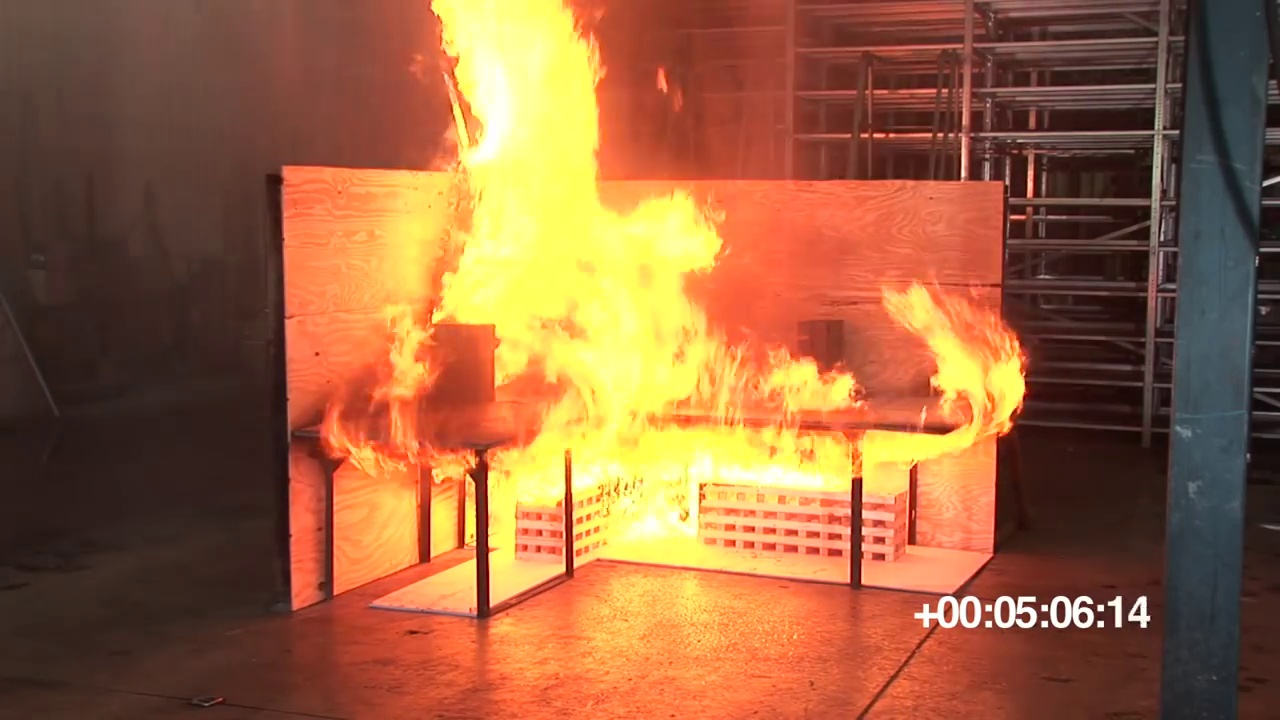fire: (379, 5, 859, 421), (480, 432, 974, 496), (884, 269, 1028, 435)
